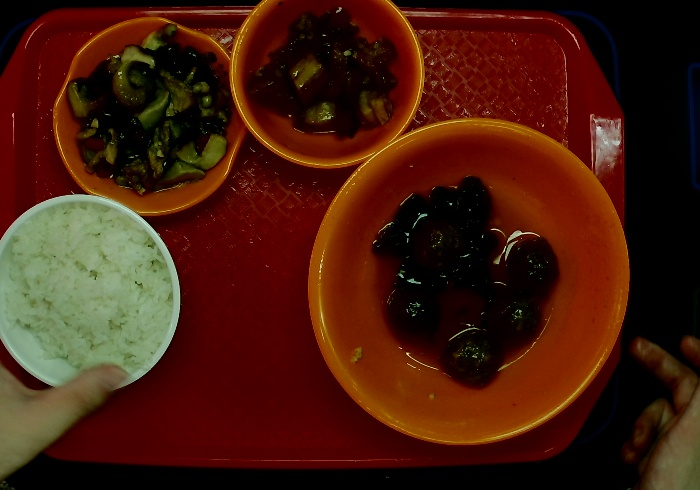YKMZ-Fan_Wan: (1, 189, 187, 396)
YKMZ-Ju_Se_Ao_Bian_Wan: (41, 11, 249, 216)
YKMZ-Ju_Se_Tang_Wan: (303, 111, 631, 452)
YKMZ-Ju_Se_Yuan_Wan: (224, 1, 429, 175)
